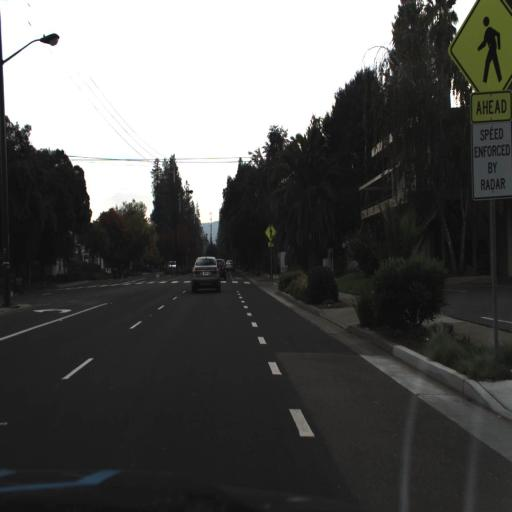car: (185, 244, 222, 303), (164, 259, 182, 283), (214, 250, 226, 282), (216, 252, 226, 286), (224, 248, 233, 275)
